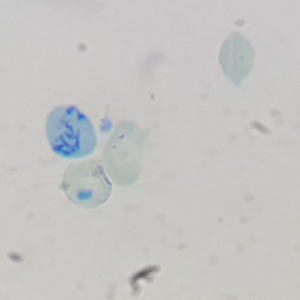aggregate reticulocyte: (43, 102, 101, 162)
erythrocyte: (60, 158, 116, 210)
punctate reticulocyte: (101, 119, 148, 188), (216, 29, 258, 87)
